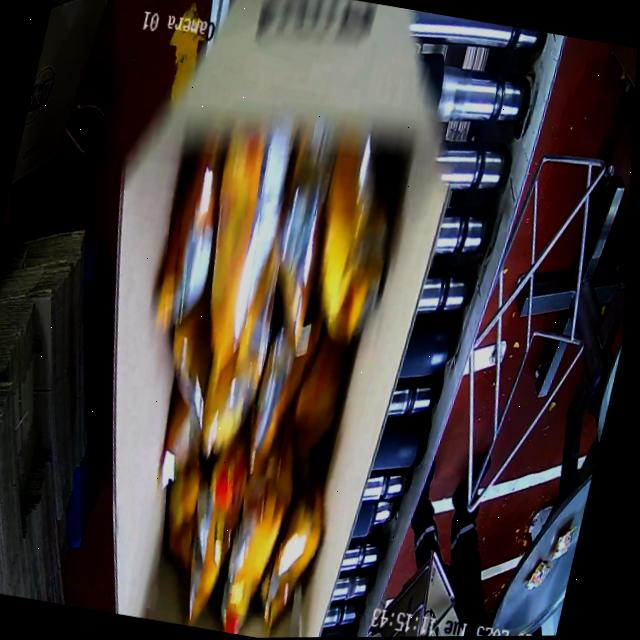FRENCH_CHEESE: (78, 132, 404, 625)
